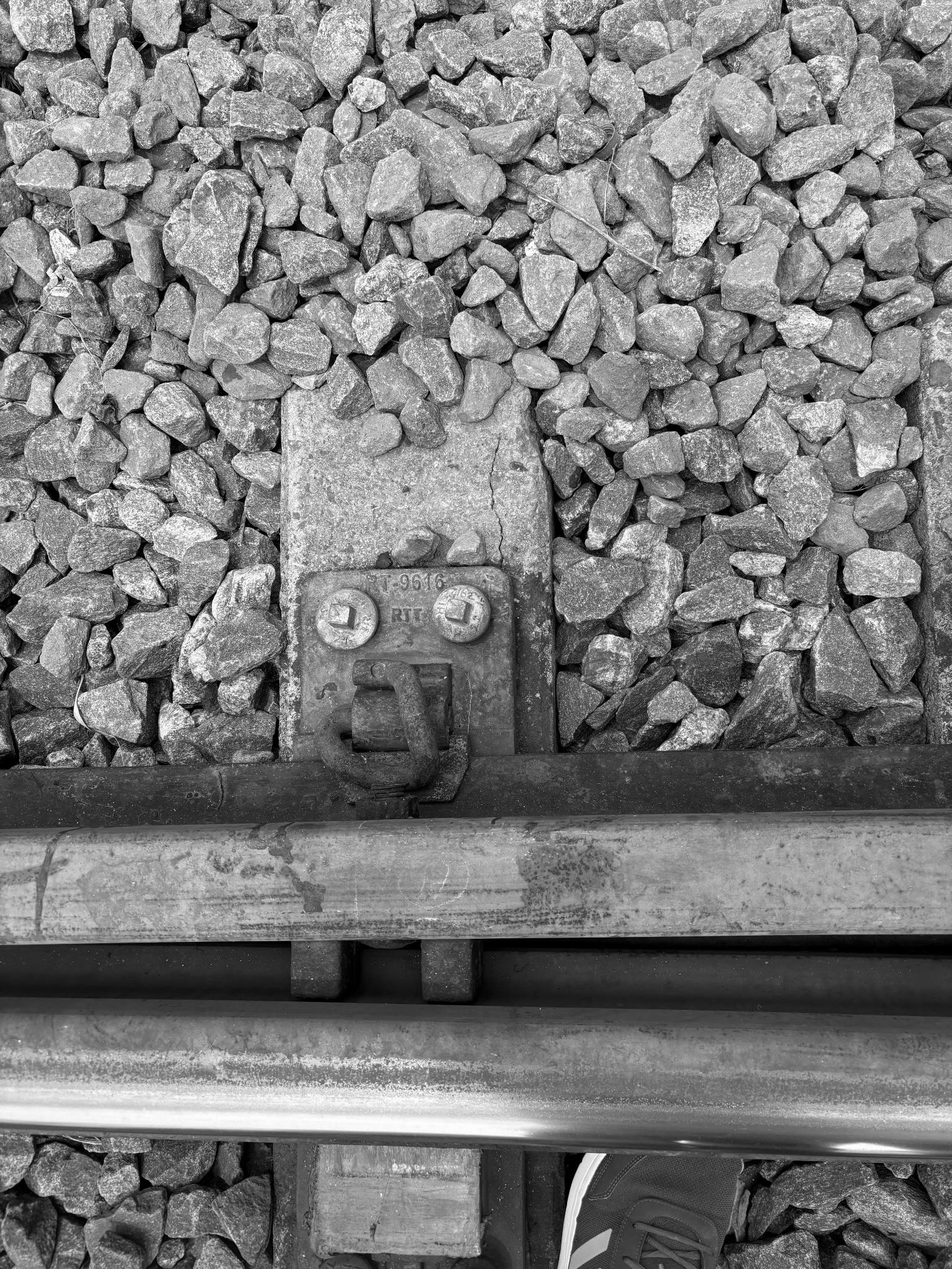cracks under rail seat: (459, 399, 535, 583)
